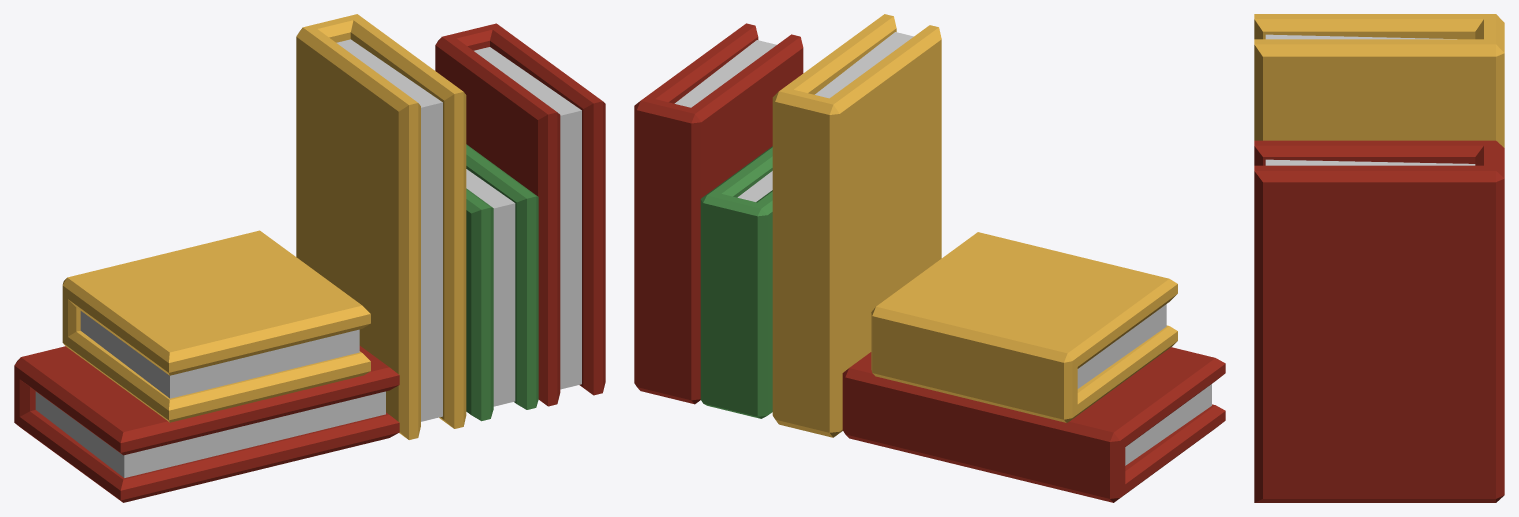
File: bookB.gltf
The picture shows the model from 3 angles, left to right: view 1: azimuth 30°, elevation 25°; view 2: azimuth 150°, elevation 25°; view 3: azimuth 270°, elevation 25°; orthographic projection. The views are drawn at different scales.
Parts seen in each view (by area): view 1: Books B; view 2: Books B; view 3: Books B.
Part boxes in pixels (x1,y1,x2,y2): Books B: [14, 14, 605, 502]; Books B: [634, 14, 1225, 502]; Books B: [1254, 14, 1504, 502].
Bounding box in the file's own units: 2.26 × 1.48 × 0.8815.
